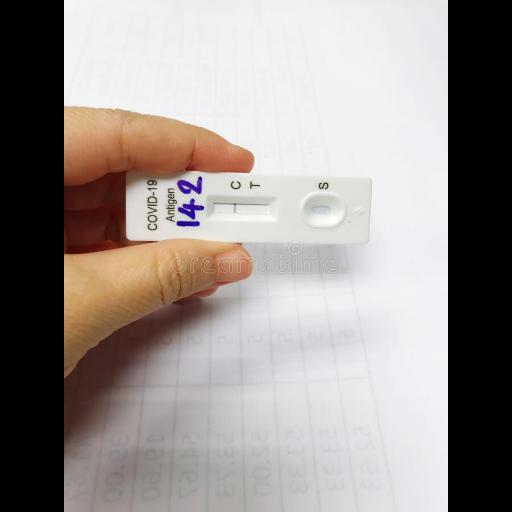Neg: (126, 172, 370, 244)
